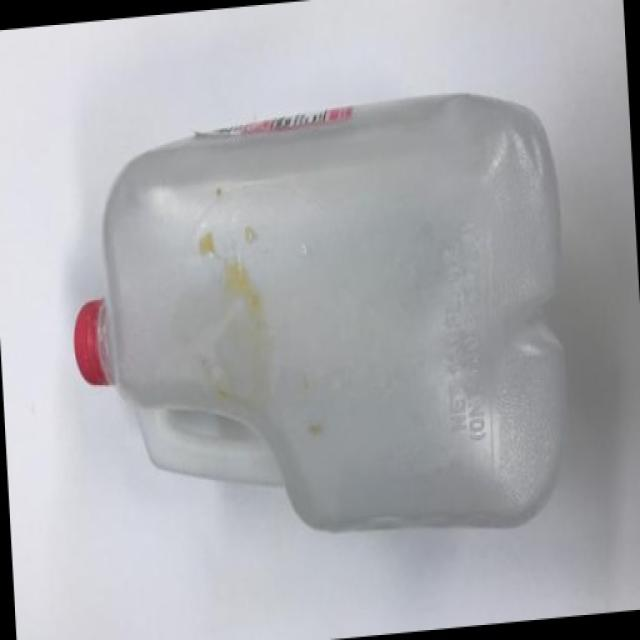plastico: (49, 78, 608, 564)
